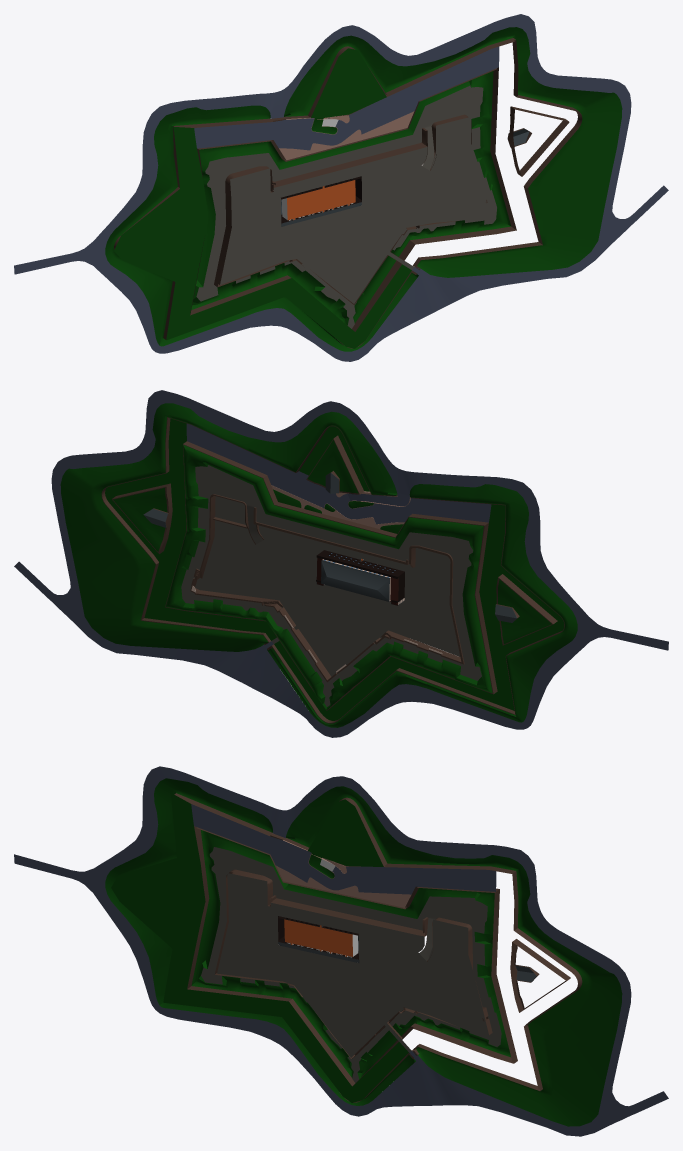
Rendered from Citadel_Test2.dae.
The picture shows the model from 3 angles, top to bottom: view 1: azimuth 30°, elevation 25°; view 2: azimuth 150°, elevation 25°; view 3: azimuth 330°, elevation 25°; orthographic projection.
Visible parts, largest first — view 1: Grass_Outer, Ground_placa, Road_Perimeter, Grass_Ditch, Grass_Upper, Ground_Upper, Parking_Asphalt, Wall_Ditch, Wall_Outer, Wall_Inner, Cav_Floors, Parking_Pedestrian (+2 smaller); view 2: Grass_Outer, Road_Perimeter, Ground_placa, Grass_Ditch, Grass_Upper, Ground_Upper, Parking_Asphalt, Wall_Inner, Wall_Ditch, Wall_Outer, Cavalier, _Triangle_East (+5 smaller); view 3: Grass_Outer, Ground_placa, Road_Perimeter, Grass_Ditch, Grass_Upper, Ground_Upper, Parking_Asphalt, Wall_Outer, Wall_Ditch, Wall_Inner, Cav_Floors, Parking_Pedestrian (+2 smaller).
Part boxes in pixels (<box>): Grass_Outer: <box>105,27,622,351</box>; Ground_placa: <box>220,117,492,303</box>; Road_Perimeter: <box>14,14,668,361</box>; Grass_Ditch: <box>114,48,411,348</box>; Grass_Upper: <box>191,71,511,325</box>; Ground_Upper: <box>196,85,496,328</box>; Parking_Asphalt: <box>194,46,499,150</box>; Wall_Ditch: <box>114,38,582,348</box>; Wall_Outer: <box>190,67,516,331</box>; Wall_Inner: <box>214,114,471,304</box>; Cav_Floors: <box>287,180,355,220</box>; Parking_Pedestrian: <box>279,111,414,160</box>; Grass_Outer: <box>60,403,577,727</box>; Road_Perimeter: <box>14,390,668,737</box>; Ground_placa: <box>195,496,460,676</box>; Grass_Ditch: <box>105,418,564,720</box>; Grass_Upper: <box>165,445,492,710</box>; Ground_Upper: <box>181,465,481,706</box>; Parking_Asphalt: <box>186,423,491,524</box>; Wall_Inner: <box>190,494,464,682</box>; Wall_Ditch: <box>101,417,564,723</box>; Wall_Outer: <box>165,441,497,710</box>; Cavalier: <box>316,555,404,605</box>; _Triangle_East: <box>112,483,172,553</box>; Grass_Outer: <box>105,778,622,1126</box>; Ground_placa: <box>217,873,489,1057</box>; Road_Perimeter: <box>14,766,668,1136</box>; Grass_Ditch: <box>111,793,408,1102</box>; Grass_Upper: <box>191,830,510,1078</box>; Ground_Upper: <box>201,847,501,1082</box>; Parking_Asphalt: <box>191,804,496,894</box>; Wall_Outer: <box>187,826,517,1086</box>; Wall_Ditch: <box>174,793,582,1102</box>; Wall_Inner: <box>214,869,492,1058</box>; Cav_Floors: <box>284,919,352,956</box>; Parking_Pedestrian: <box>276,840,411,907</box>.
Bounding box in the file's own units: 507 × 16.7 × 249.
